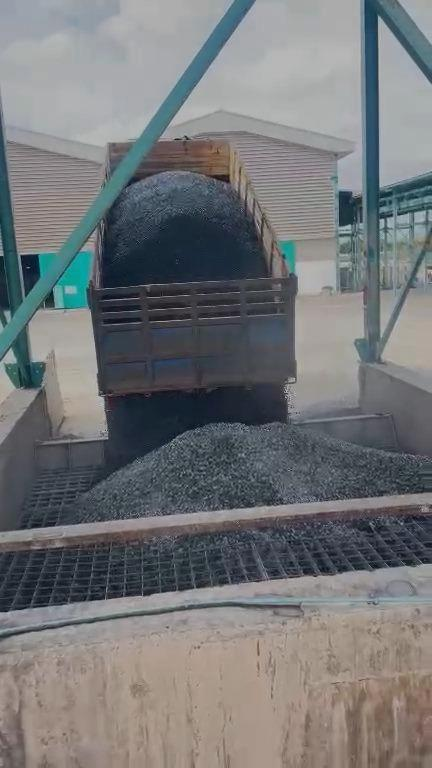gravel: (72, 424, 424, 521), (104, 171, 268, 286), (108, 383, 288, 465), (153, 515, 432, 553)
